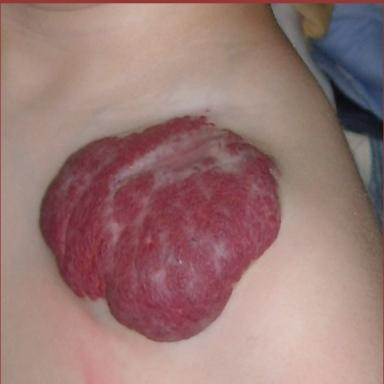Hemangiome: (41, 118, 281, 340)
